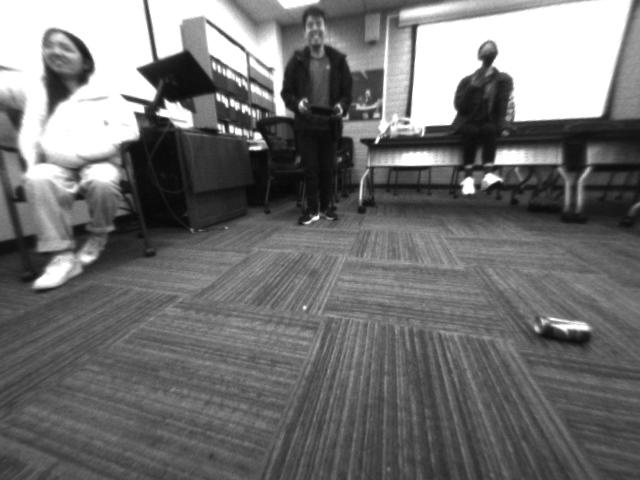can: (532, 309, 597, 351)
